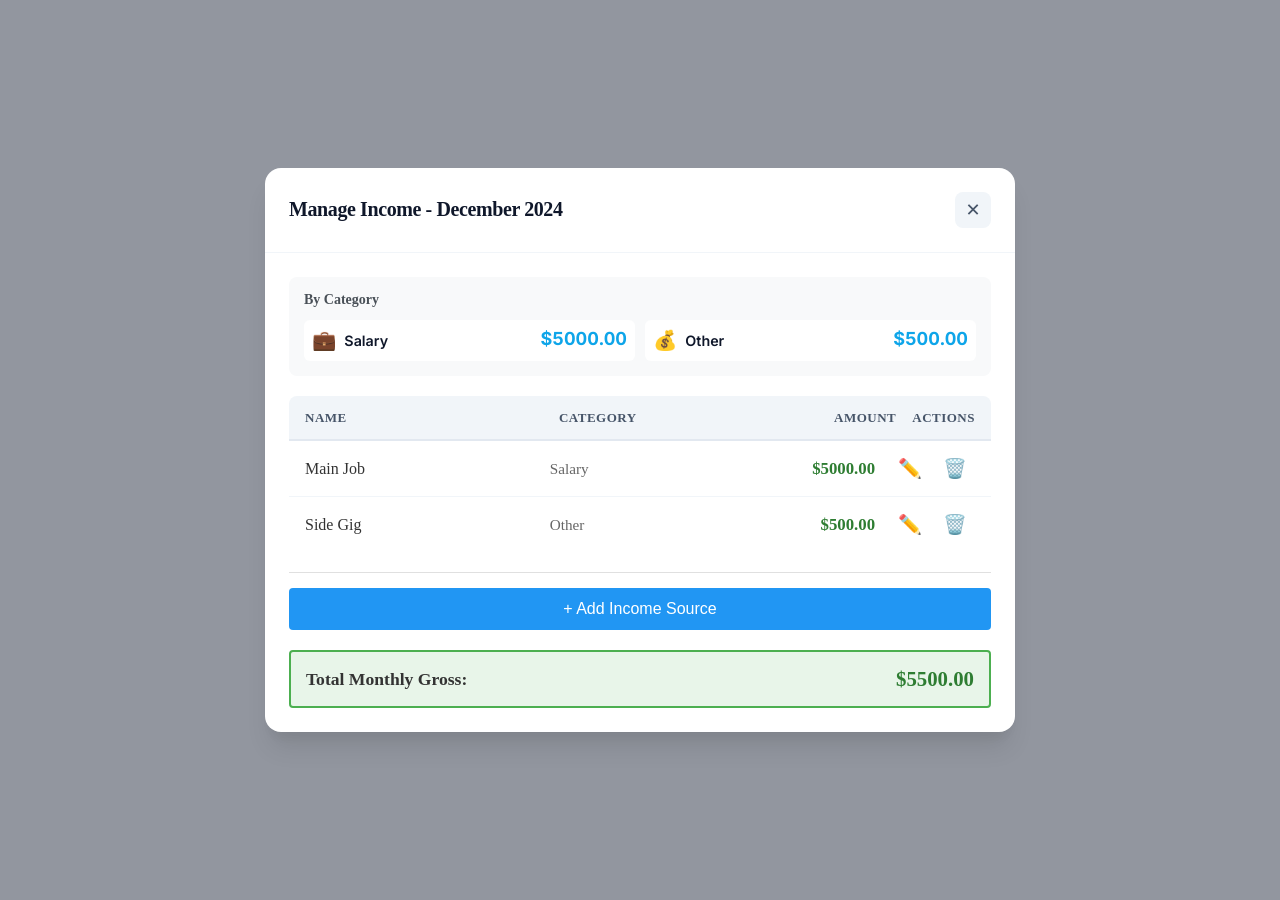
Test case: IncomeManagementModal › Edit Income Source › cancels edit when cancel button is clicked
Check: the text "Main Job" is shown, box [305,460,365,477]
Click the button titled "Edit" in the row of "Main Job" at (910, 469), box [890,453,930,484]
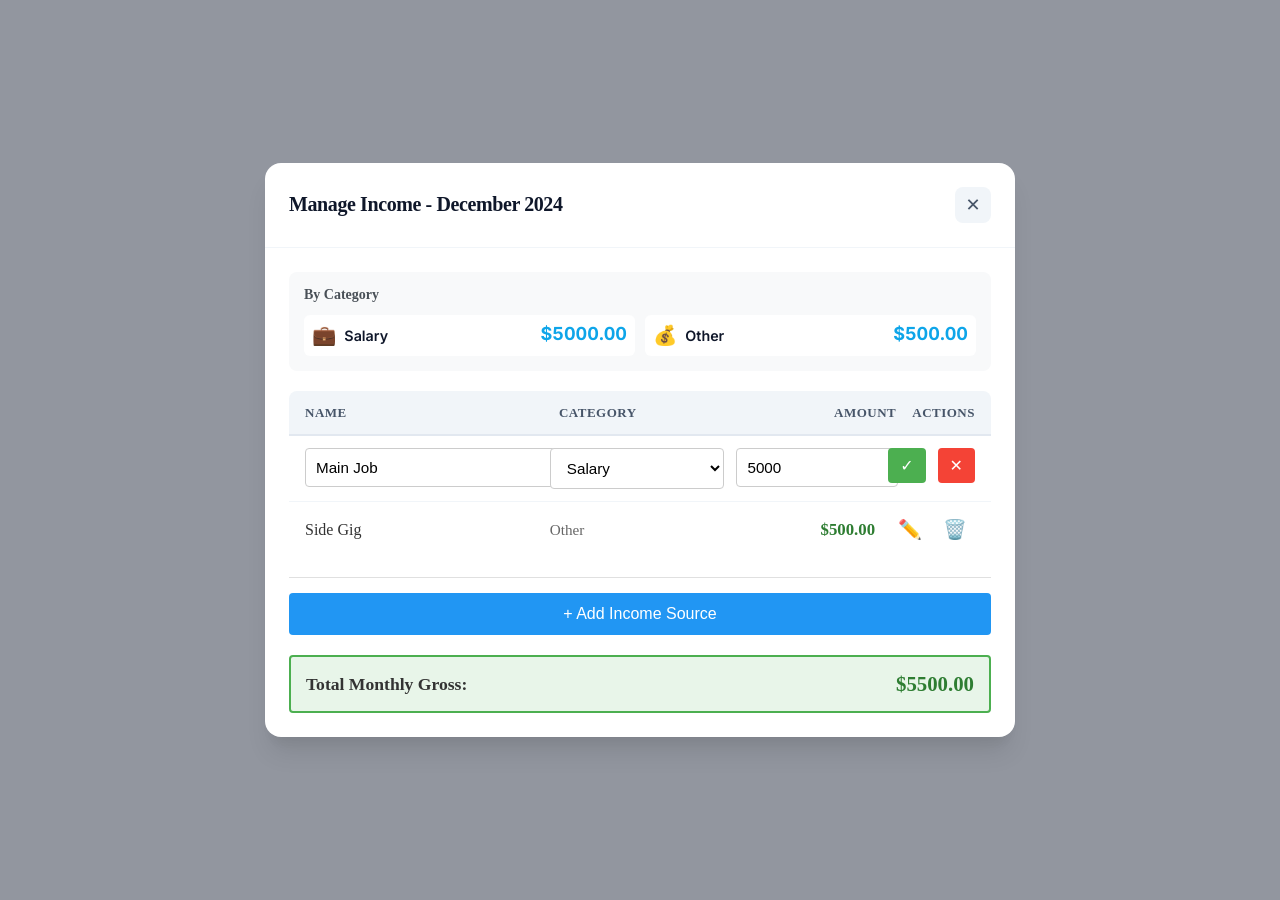
// The last one should be the edit cancel button
Click the button "✕" below "Amount" at (956, 466), box [938,448,975,483]
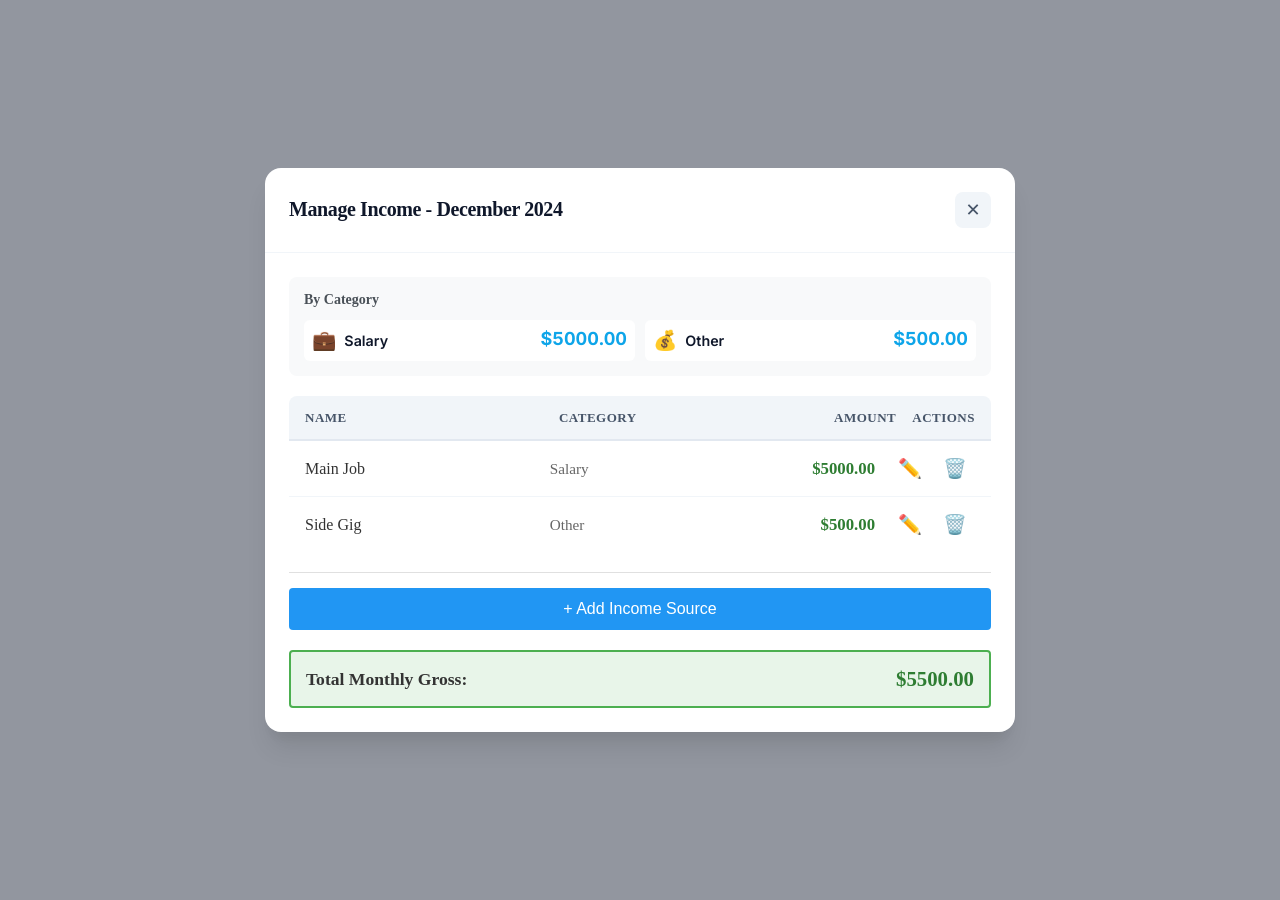
Check: the text "Main Job" is shown, box [305,460,365,477]
